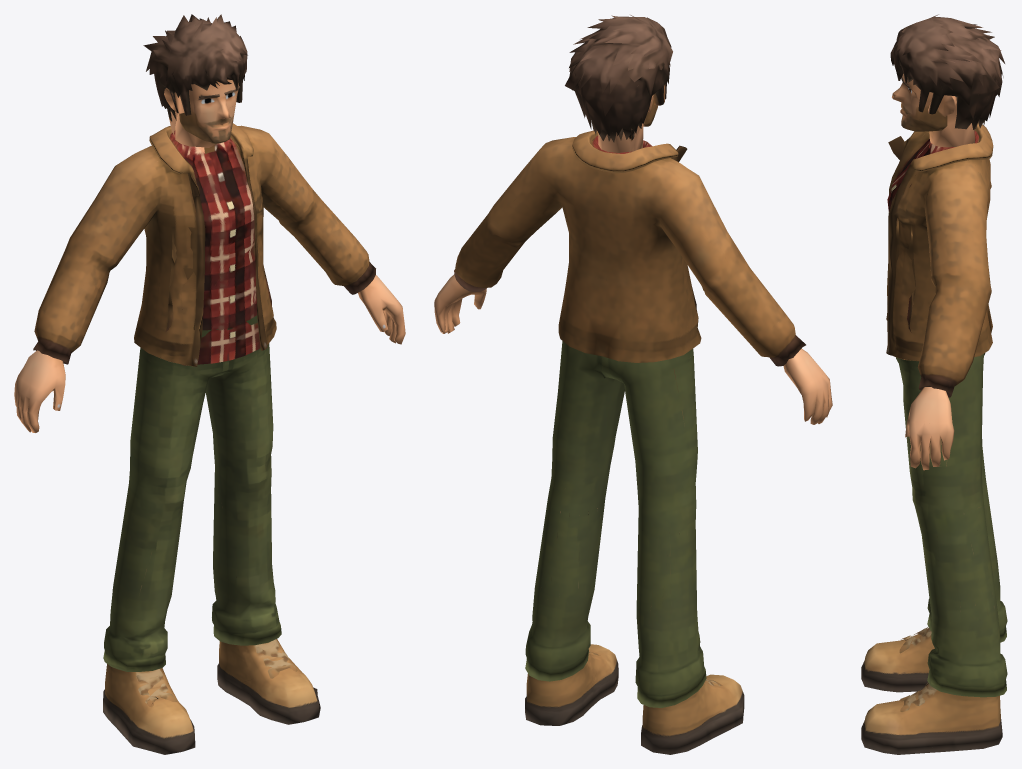
Rendered from bearded_man.glb.
3 views of the same model, side by side, from view 1: azimuth 30°, elevation 25°; view 2: azimuth 150°, elevation 25°; view 3: azimuth 270°, elevation 25° (orthographic).
Parts seen in each view (by area): view 1: geometry_0; view 2: geometry_0; view 3: geometry_0.
Boxes of the visible parts, x1,y1,x2,y2 form: geometry_0: (14,14,405,754); geometry_0: (434,15,832,754); geometry_0: (861,14,1007,754).
Size of the model in its own units: 0.5464 by 0.9512 by 0.1812.
1 material, 1 textured.
